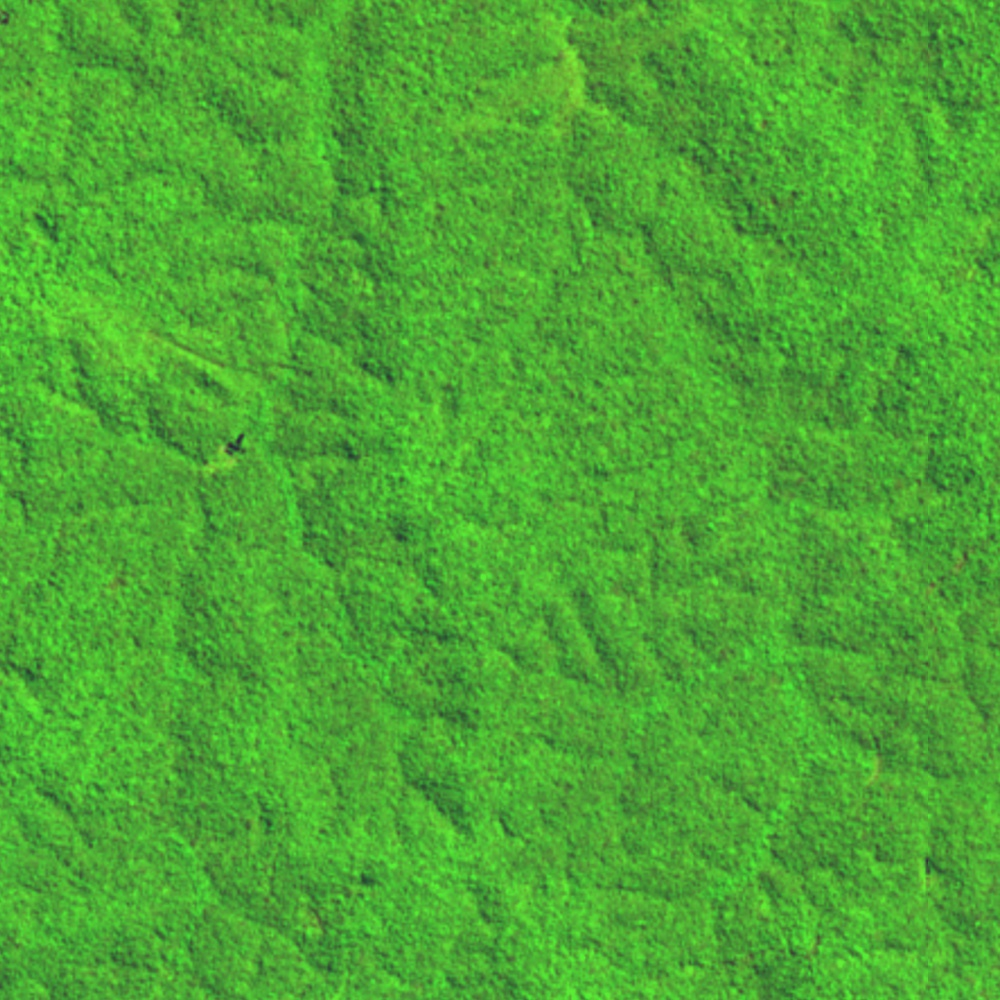illegal: (200, 429, 252, 479)
